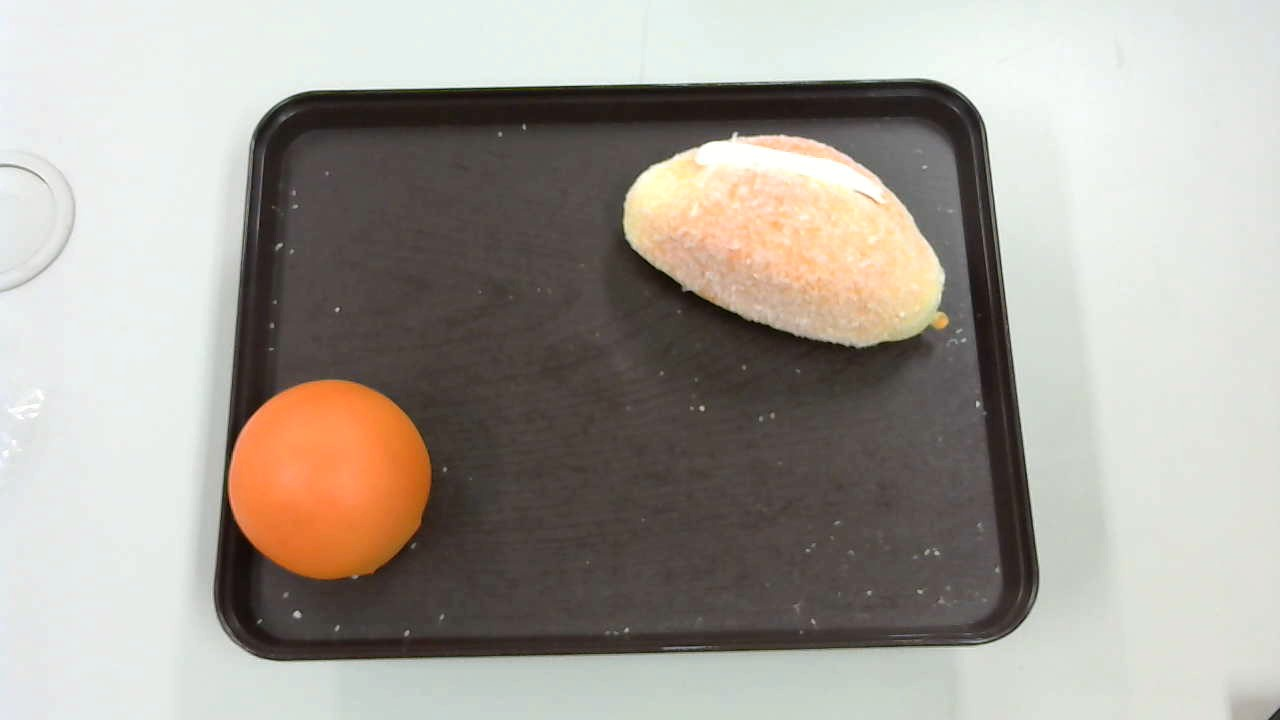bun: (226, 379, 432, 581)
coconut: (623, 132, 948, 347)
